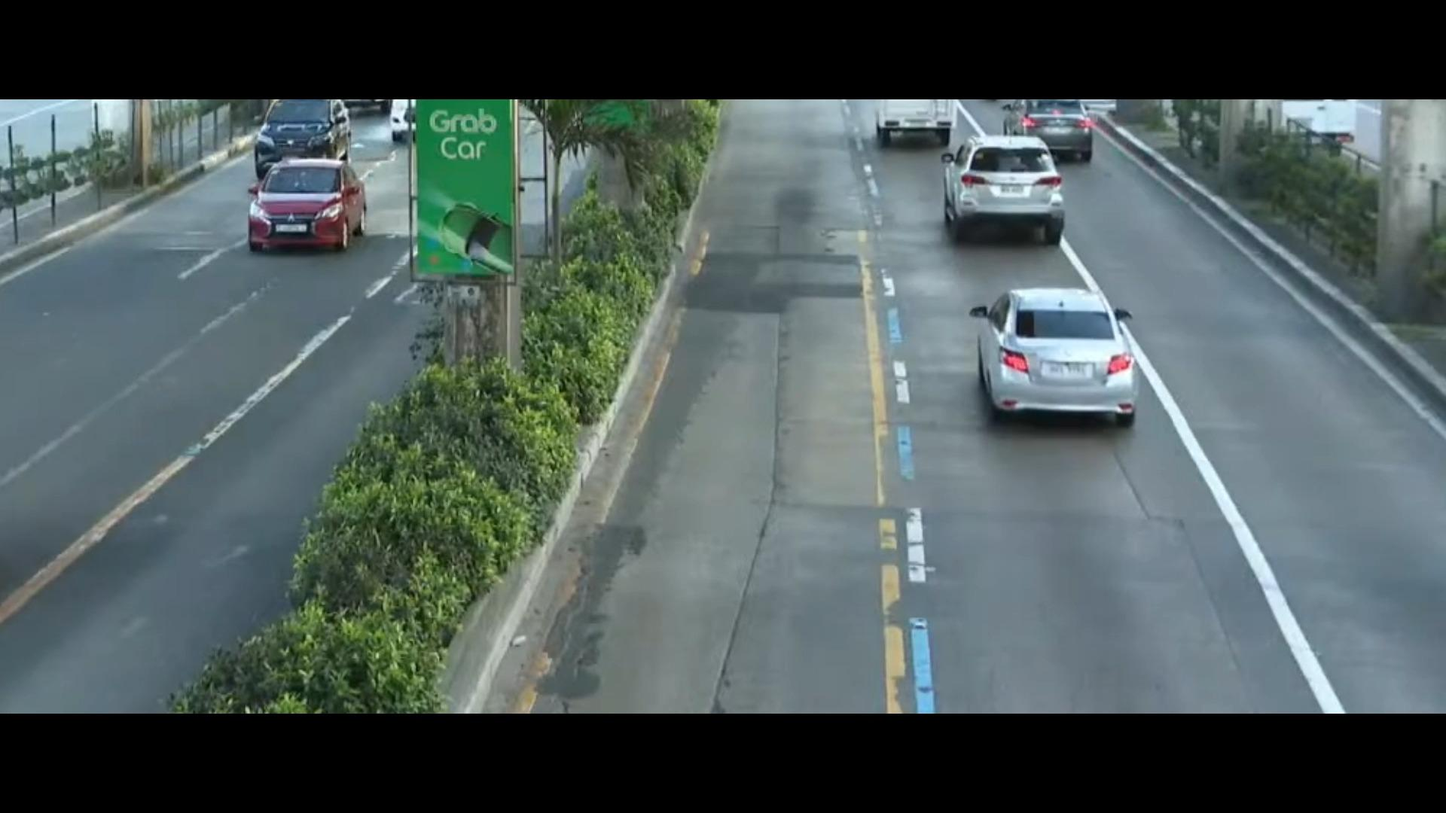SUV: (925, 126, 1072, 263), (243, 94, 358, 171)
Sedan: (957, 247, 1170, 442), (232, 155, 368, 280)
